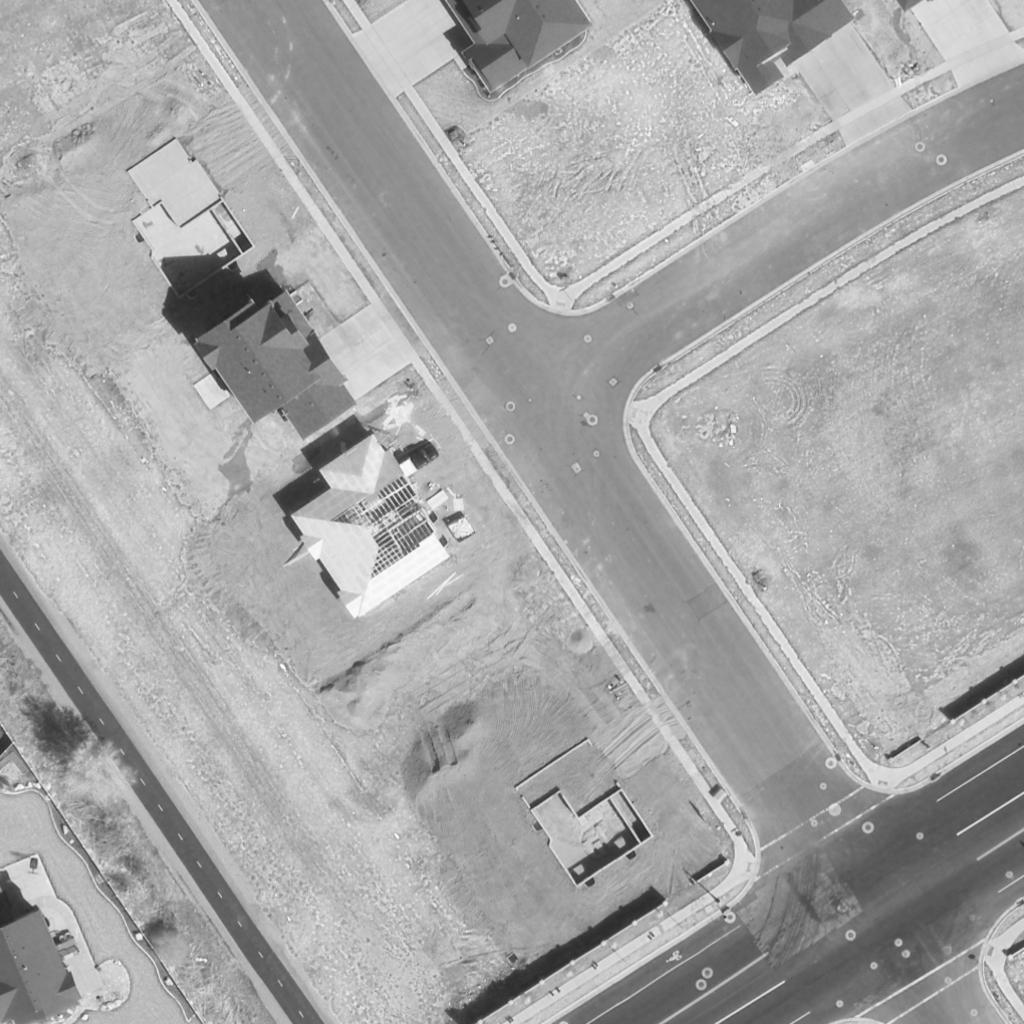vehicle: (391, 444, 443, 482)
